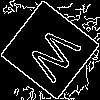W: (25, 25, 90, 90)
